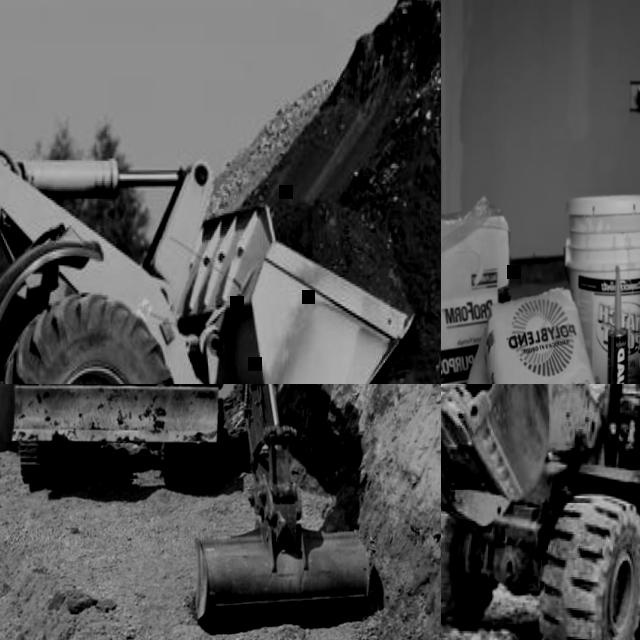machinery: (0, 0, 432, 384), (10, 384, 379, 633), (441, 384, 640, 640)
